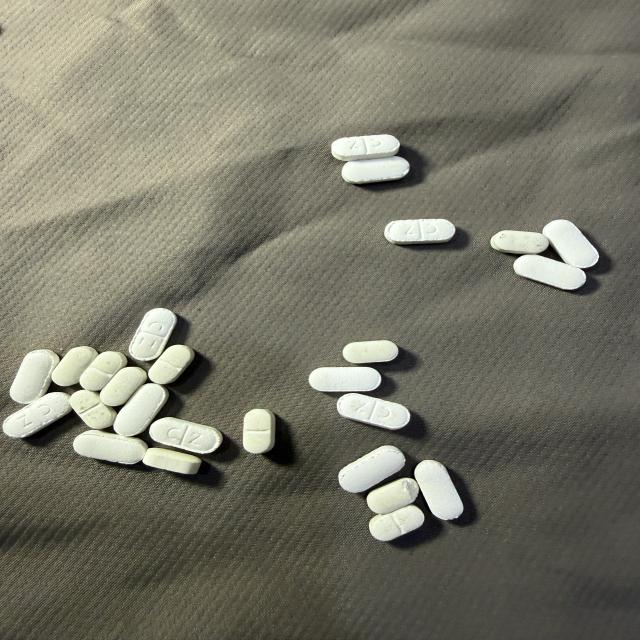pill: (339, 446, 405, 493), (3, 392, 71, 437), (414, 460, 463, 519), (114, 384, 168, 436), (543, 220, 599, 268), (10, 350, 59, 403), (150, 417, 222, 453), (337, 394, 410, 429), (514, 255, 586, 290), (129, 308, 177, 360), (73, 431, 147, 464), (369, 505, 424, 541), (342, 156, 409, 184), (367, 478, 419, 514), (52, 346, 98, 386), (70, 390, 116, 429), (100, 367, 146, 406), (80, 352, 126, 391), (149, 345, 194, 384), (385, 219, 455, 244), (332, 135, 399, 161), (309, 367, 381, 391), (143, 448, 201, 474), (243, 409, 275, 453), (490, 230, 548, 254), (343, 340, 398, 363)
